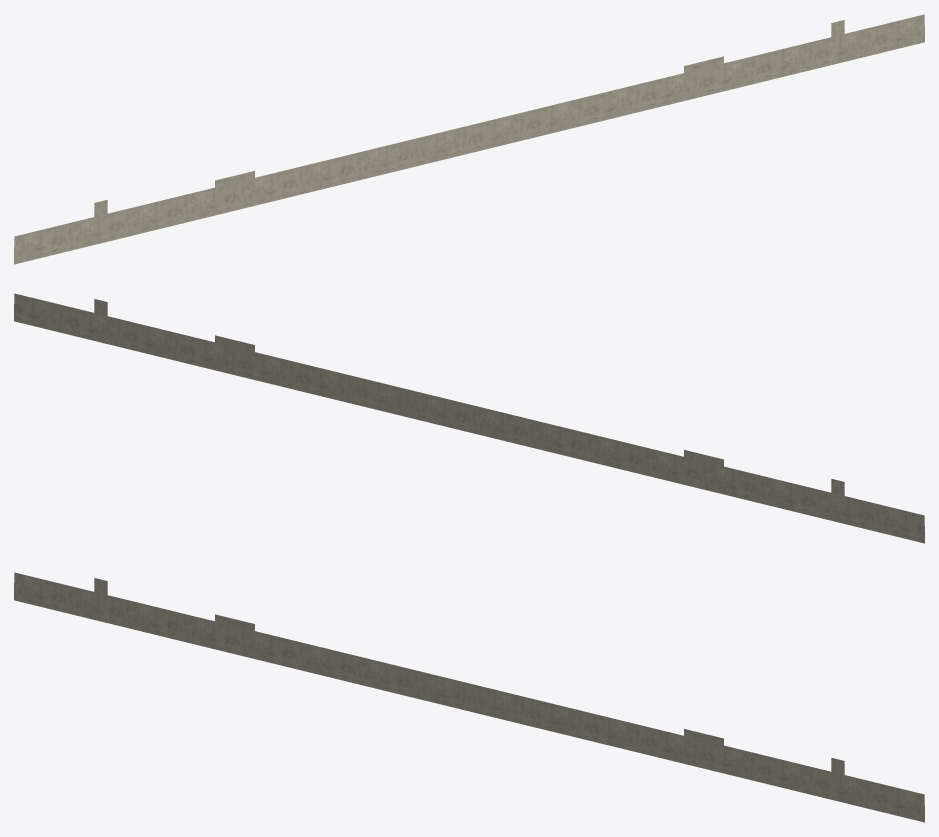
The model's file is SuspBridgeBase-2L-40M-Cap.FBX.
3 views of the same model, one above another, from view 1: azimuth 30°, elevation 25°; view 2: azimuth 150°, elevation 25°; view 3: azimuth 330°, elevation 25° (orthographic).
Parts seen in each view (by area): view 1: SuspBridgeBase-2L-40M-Cap; view 2: SuspBridgeBase-2L-40M-Cap; view 3: SuspBridgeBase-2L-40M-Cap.
Boxes of the visible parts, x1,y1,x2,y2 form: SuspBridgeBase-2L-40M-Cap: (14,14,924,264); SuspBridgeBase-2L-40M-Cap: (14,293,924,543); SuspBridgeBase-2L-40M-Cap: (14,572,924,822).
Bounding box in the file's own units: 34 × 1.5 × 5.74e-06.
